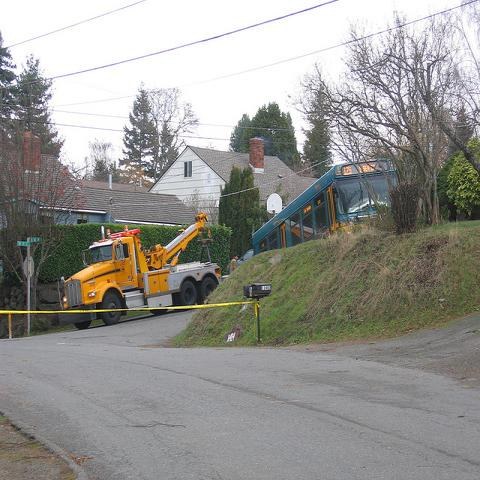bus: (252, 158, 398, 257)
car: (226, 249, 253, 273)
truck: (61, 214, 221, 331)
